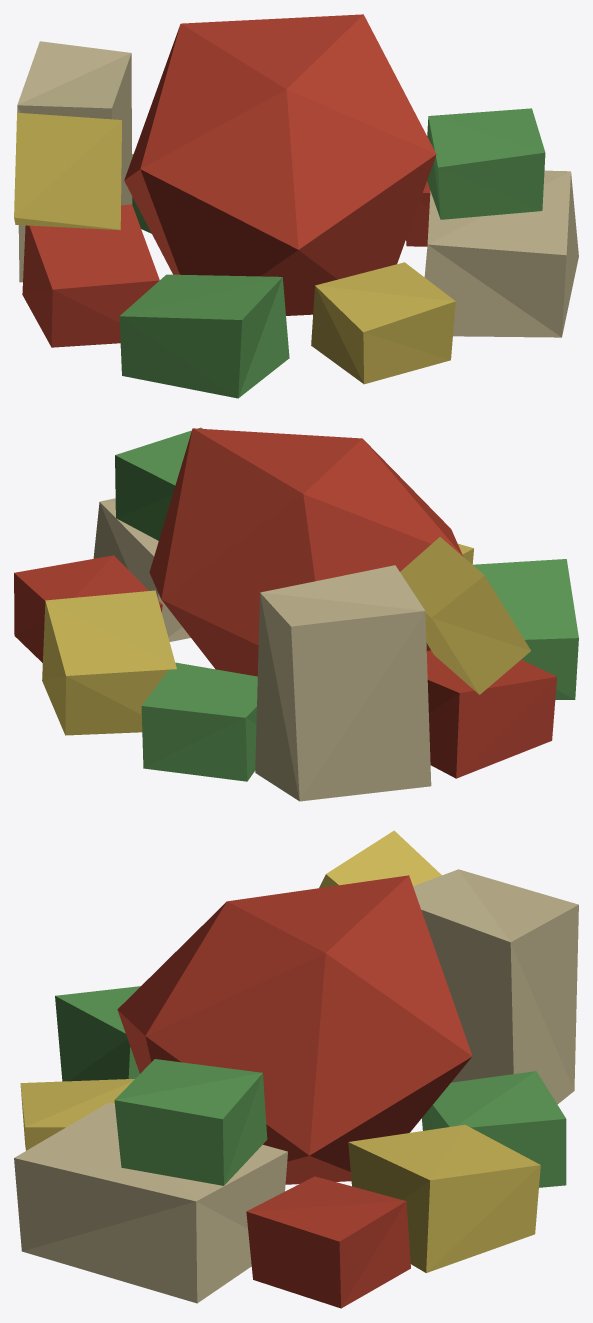
Rendered from SM_CandiedFruit.fbx.
3 views of the same model, one above another, from view 1: azimuth 30°, elevation 25°; view 2: azimuth 150°, elevation 25°; view 3: azimuth 270°, elevation 25° (orthographic). The views are drawn at different scales.
Parts seen in each view (by area): view 1: Candied_Fruit; view 2: Candied_Fruit; view 3: Candied_Fruit.
Boxes of the visible parts, x1,y1,x2,y2 form: Candied_Fruit: (14,14,578,398); Candied_Fruit: (14,427,578,801); Candied_Fruit: (14,830,578,1308).
Bounding box in the file's own units: 0.2301 × 0.1031 × 0.1992.
